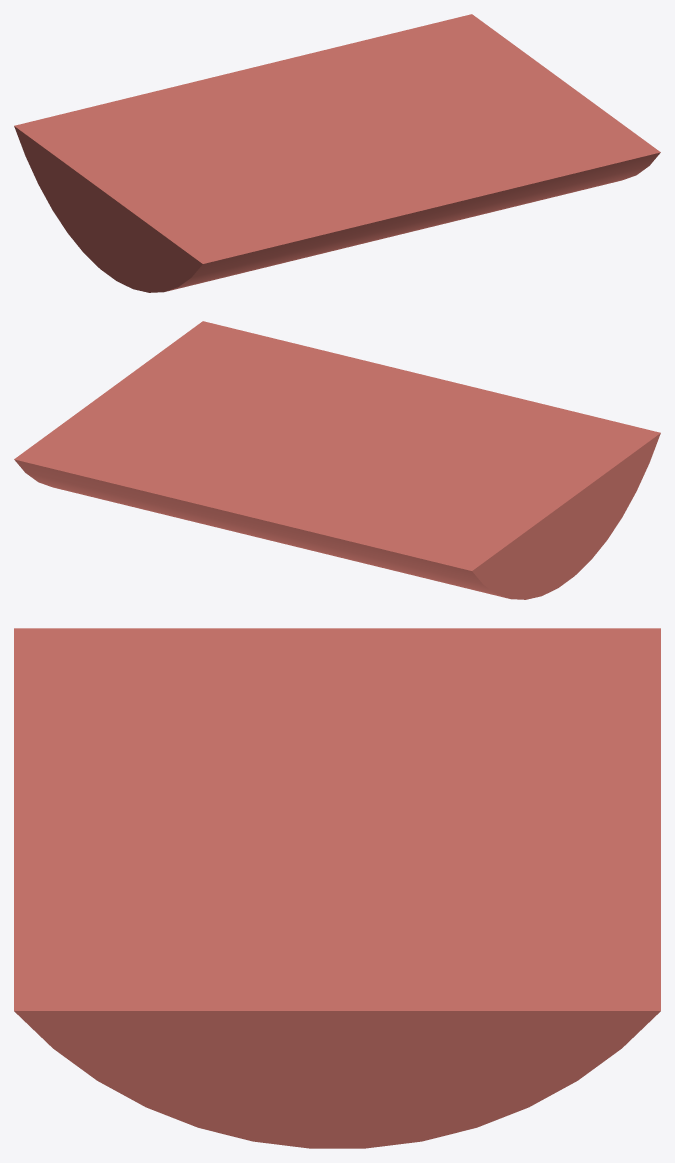
The model's file is jar_side_floor.obj.
The picture shows the model from 3 angles, top to bottom: view 1: azimuth 30°, elevation 25°; view 2: azimuth 150°, elevation 25°; view 3: azimuth 270°, elevation 25°; orthographic projection. The views are drawn at different scales.
Visible parts, largest first — view 1: jar_side_floor; view 2: jar_side_floor; view 3: jar_side_floor.
Boxes of the visible parts, box(x1,y1,x2,y2) form: jar_side_floor: box(14, 14, 660, 292); jar_side_floor: box(14, 321, 660, 599); jar_side_floor: box(14, 628, 660, 1148).
Bounding box in the file's own units: 0.19 × 0.0318 × 0.1358.
Materials: 1 (1 with a texture image).
